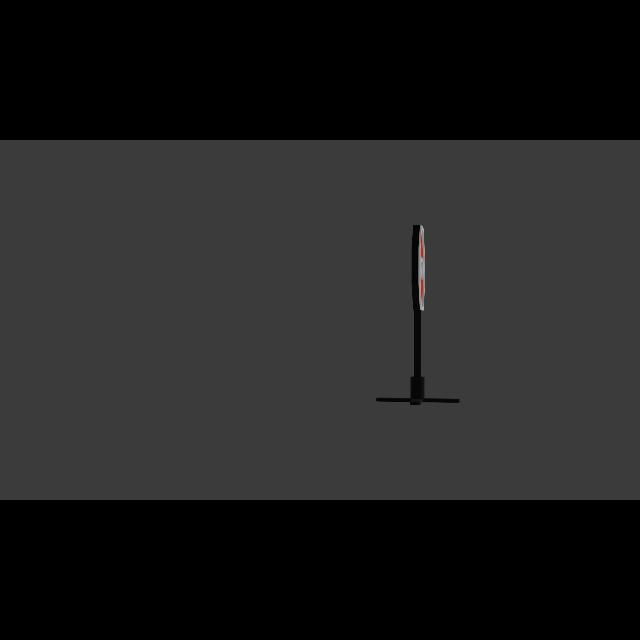sign_stop: (413, 226, 430, 314)
